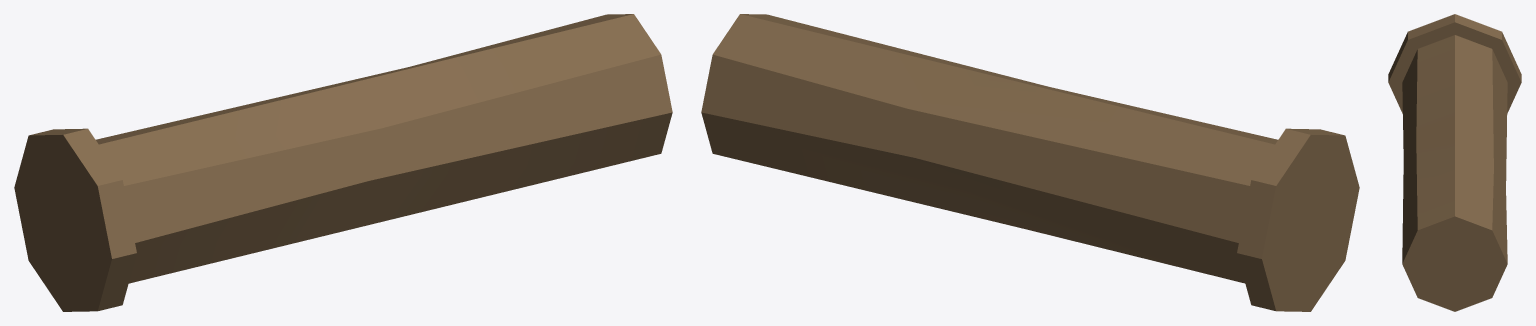
Rendered from SM_Prop_Pipe_01_Straight_03.fbx.
3 renders of one model, left to right at view 1: azimuth 30°, elevation 25°; view 2: azimuth 150°, elevation 25°; view 3: azimuth 270°, elevation 25°, orthographic. The views are drawn at different scales.
Visible parts, largest first — view 1: SM_Prop_Pipe_01_Straight_03; view 2: SM_Prop_Pipe_01_Straight_03; view 3: SM_Prop_Pipe_01_Straight_03.
Boxes of the visible parts, x1,y1,x2,y2 form: SM_Prop_Pipe_01_Straight_03: (14,14,672,311); SM_Prop_Pipe_01_Straight_03: (701,14,1359,311); SM_Prop_Pipe_01_Straight_03: (1388,14,1521,311).
Size of the model in its own units: 128 by 37.9 by 37.9.
